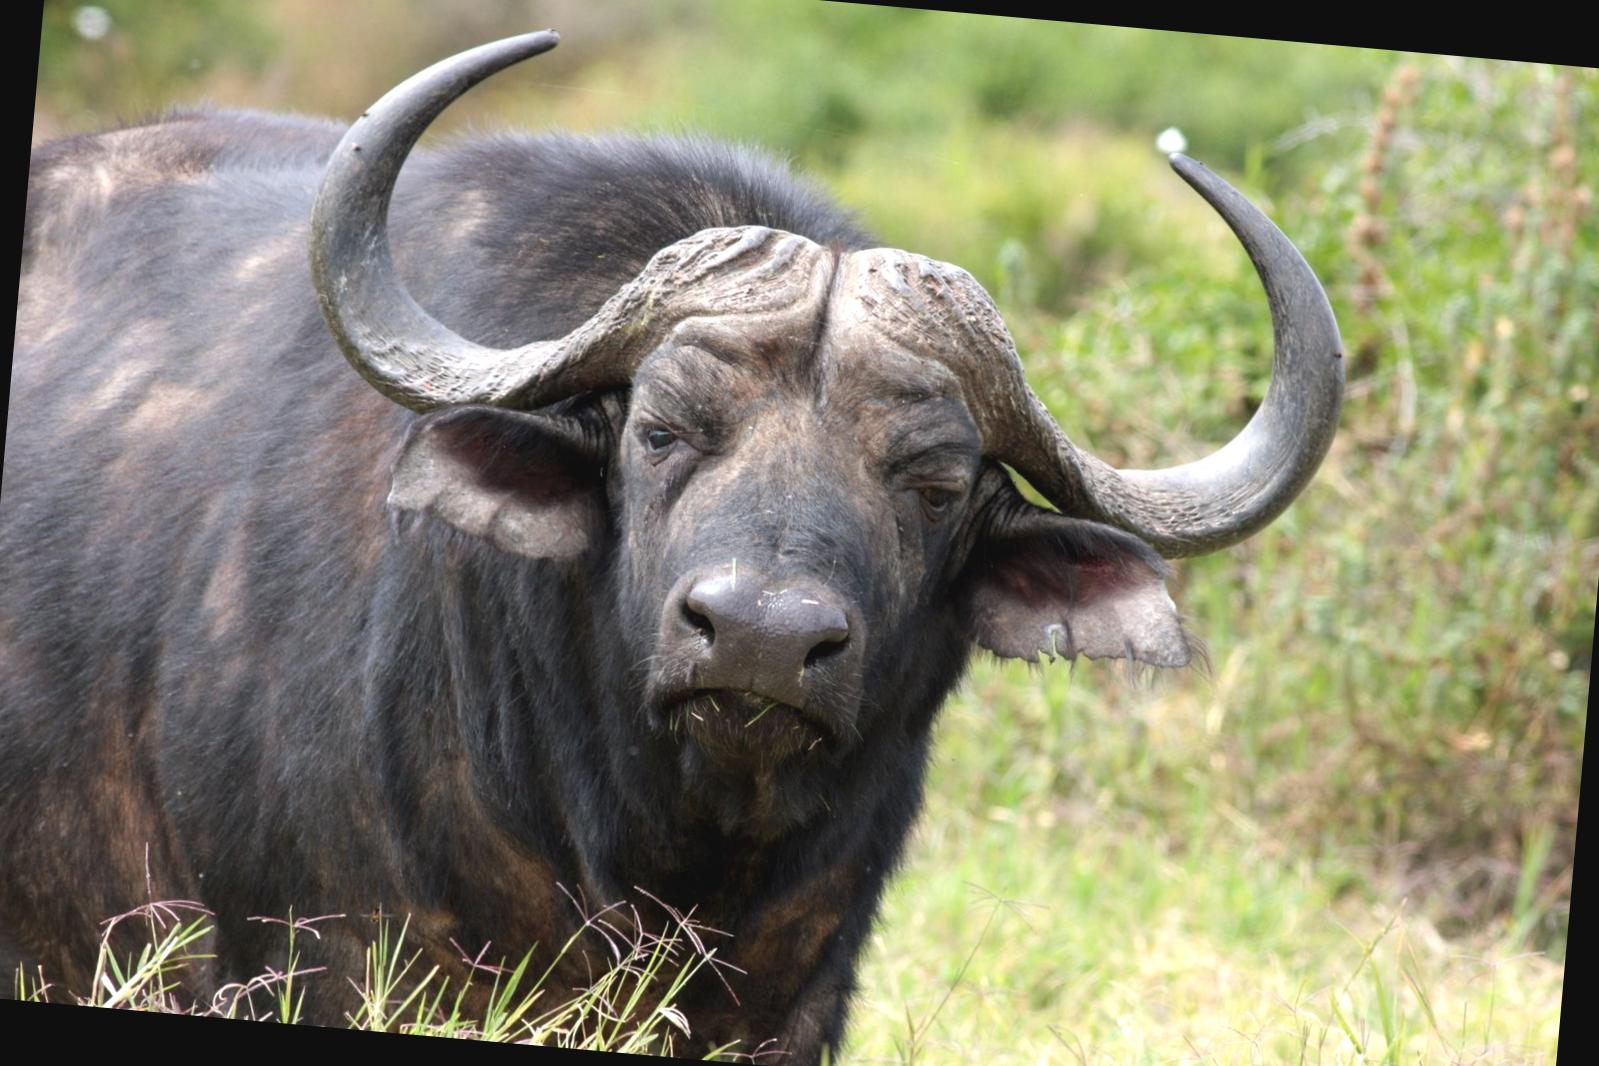Buffalo: (0, 0, 1324, 1066)
